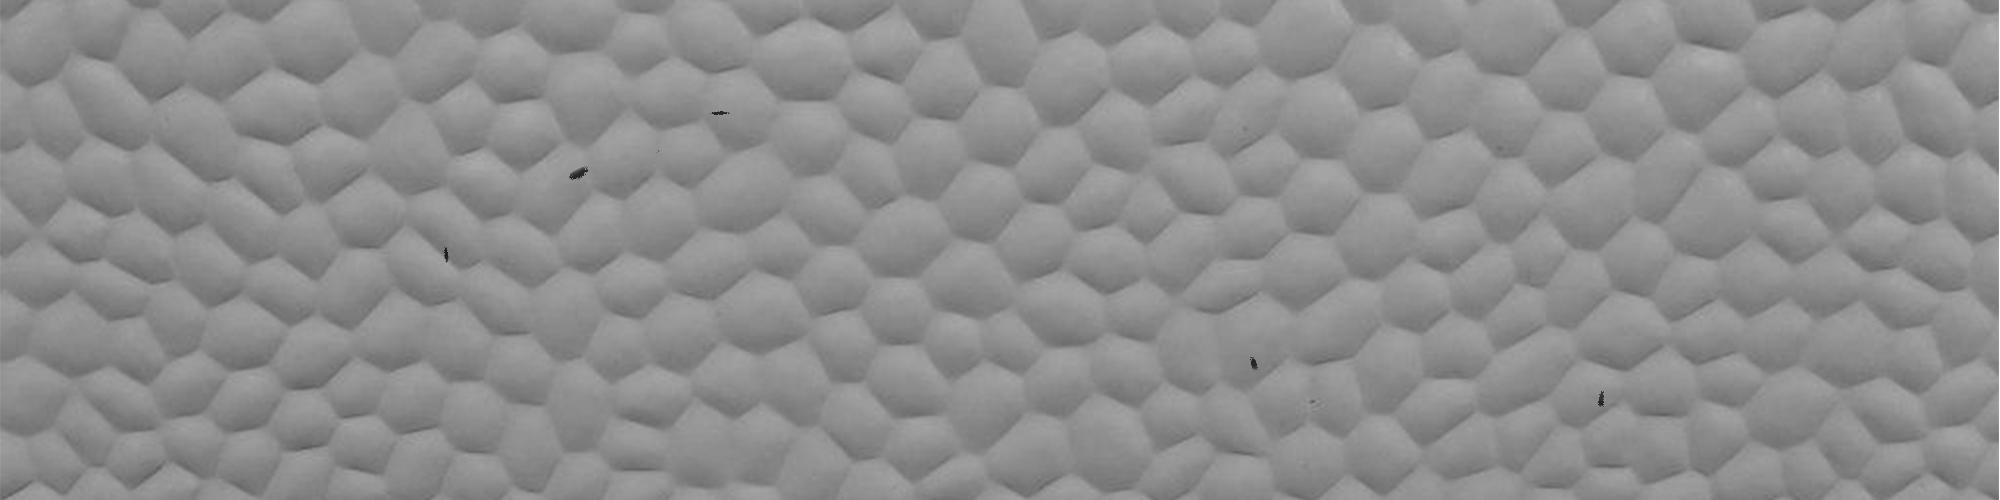Decomposed: (1233, 349, 1269, 380), (555, 163, 601, 184), (1587, 388, 1620, 413), (437, 242, 464, 269), (702, 106, 737, 122), (652, 142, 672, 159)
